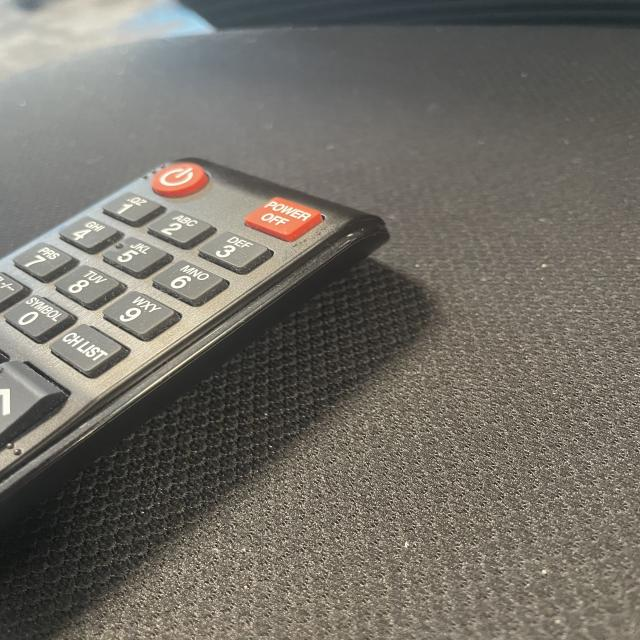remote: (0, 154, 393, 519)
